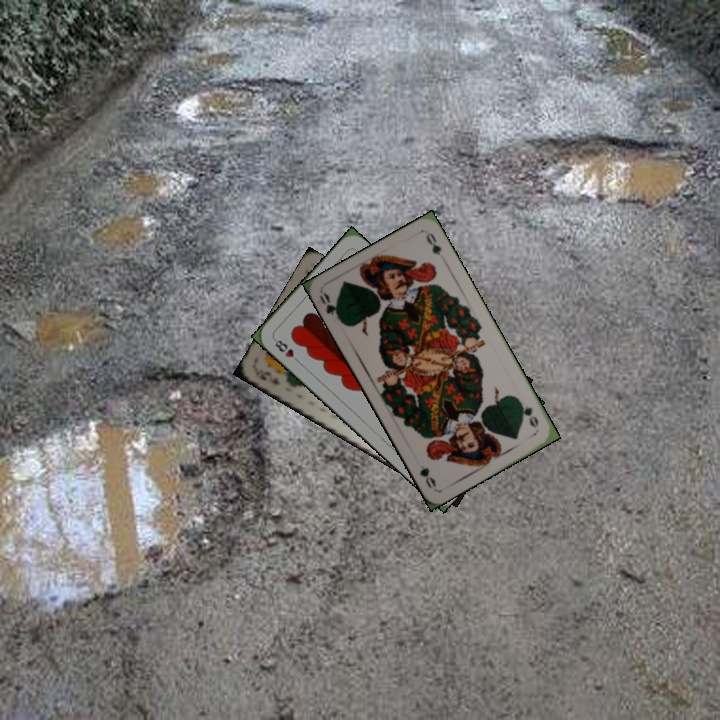EK: (257, 366, 283, 387)
GO: (514, 396, 541, 431), (319, 289, 344, 325)
H8: (270, 335, 303, 366)
